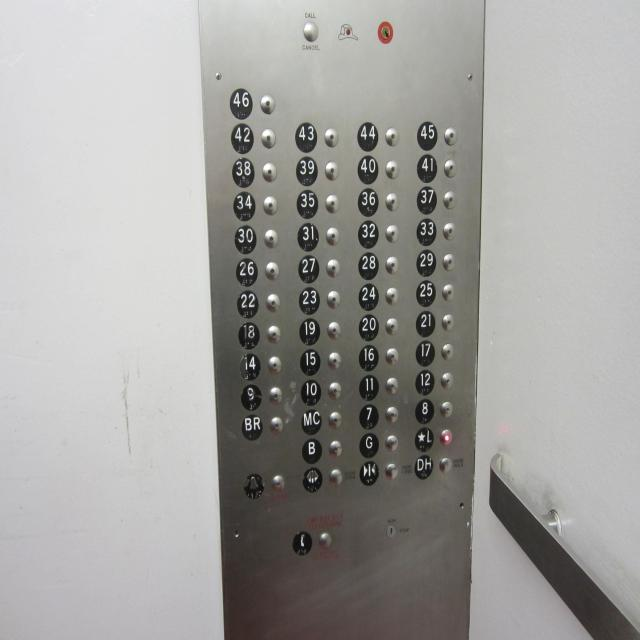10: (300, 377, 321, 407)
11: (358, 374, 379, 400)
12: (415, 369, 435, 396)
14: (238, 352, 261, 382)
15: (299, 348, 322, 376)
16: (358, 343, 380, 371)
17: (415, 339, 436, 367)
18: (238, 321, 260, 350)
19: (299, 318, 321, 347)
20: (358, 314, 380, 342)
21: (415, 309, 436, 338)
22: (236, 289, 258, 319)
23: (298, 286, 320, 315)
24: (358, 283, 380, 312)
25: (416, 279, 436, 307)
26: (235, 257, 258, 287)
27: (298, 254, 319, 284)
28: (358, 251, 378, 281)
29: (416, 249, 436, 277)
30: (234, 225, 256, 255)
31: (297, 222, 319, 252)
32: (358, 220, 378, 248)
33: (415, 217, 437, 246)
34: (232, 191, 255, 221)
35: (296, 189, 318, 219)
36: (358, 188, 378, 217)
37: (416, 184, 438, 215)
38: (230, 156, 256, 189)
39: (295, 155, 318, 187)
40: (356, 154, 379, 185)
41: (416, 152, 438, 184)
42: (230, 120, 254, 154)
43: (294, 120, 318, 154)
44: (356, 120, 380, 152)
45: (417, 121, 438, 151)
46: (228, 85, 254, 122)
7: (358, 403, 379, 430)
8: (414, 397, 435, 426)
9: (240, 382, 262, 410)
B: (300, 437, 324, 464)
BR: (241, 413, 263, 440)
DH: (414, 454, 434, 480)
G: (360, 432, 380, 458)
MC: (300, 409, 322, 435)
alarm: (243, 472, 265, 498)
call: (291, 529, 313, 557)
close: (358, 460, 380, 486)
indicator: (302, 19, 320, 43), (258, 92, 276, 116), (384, 222, 401, 245), (441, 219, 458, 242), (260, 126, 276, 150), (324, 159, 340, 183), (385, 282, 401, 306), (443, 156, 458, 181), (443, 123, 458, 148), (384, 190, 400, 213), (385, 346, 401, 369), (440, 281, 456, 304), (442, 189, 458, 212), (265, 325, 283, 345), (383, 462, 401, 482), (261, 160, 277, 182), (326, 226, 342, 248), (324, 126, 340, 148), (440, 310, 456, 332), (328, 409, 343, 432), (326, 290, 342, 311), (384, 125, 400, 146), (385, 158, 400, 180), (385, 375, 400, 397), (442, 250, 456, 273), (263, 229, 279, 249), (263, 195, 278, 216), (328, 439, 343, 460), (328, 381, 343, 402), (325, 194, 340, 215), (269, 384, 283, 406), (385, 405, 399, 427), (264, 261, 279, 281), (327, 320, 342, 340), (266, 293, 280, 314), (270, 415, 284, 436), (385, 256, 399, 277), (386, 432, 400, 453), (325, 258, 340, 277), (268, 356, 282, 376), (328, 351, 342, 371), (385, 317, 399, 337), (329, 468, 343, 488), (440, 427, 453, 448), (271, 474, 285, 493), (441, 398, 453, 419), (439, 455, 453, 473), (318, 533, 332, 550), (440, 371, 454, 388), (442, 342, 454, 360)
keyhole: (377, 22, 393, 44), (386, 524, 398, 539)
open: (302, 467, 323, 493)
sL: (413, 427, 435, 452)
